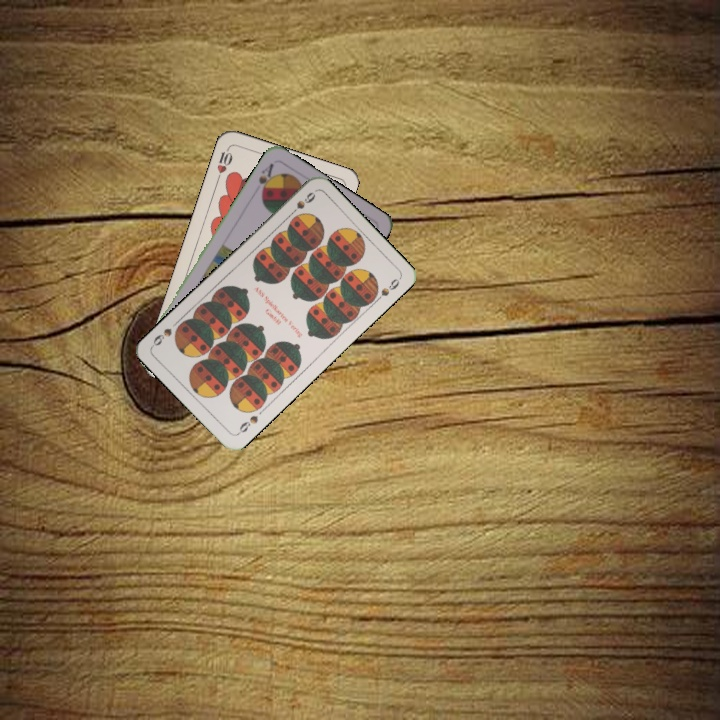H10: (213, 144, 235, 183)
S9: (285, 188, 318, 219), (233, 411, 261, 437)
SA: (254, 159, 277, 198)
